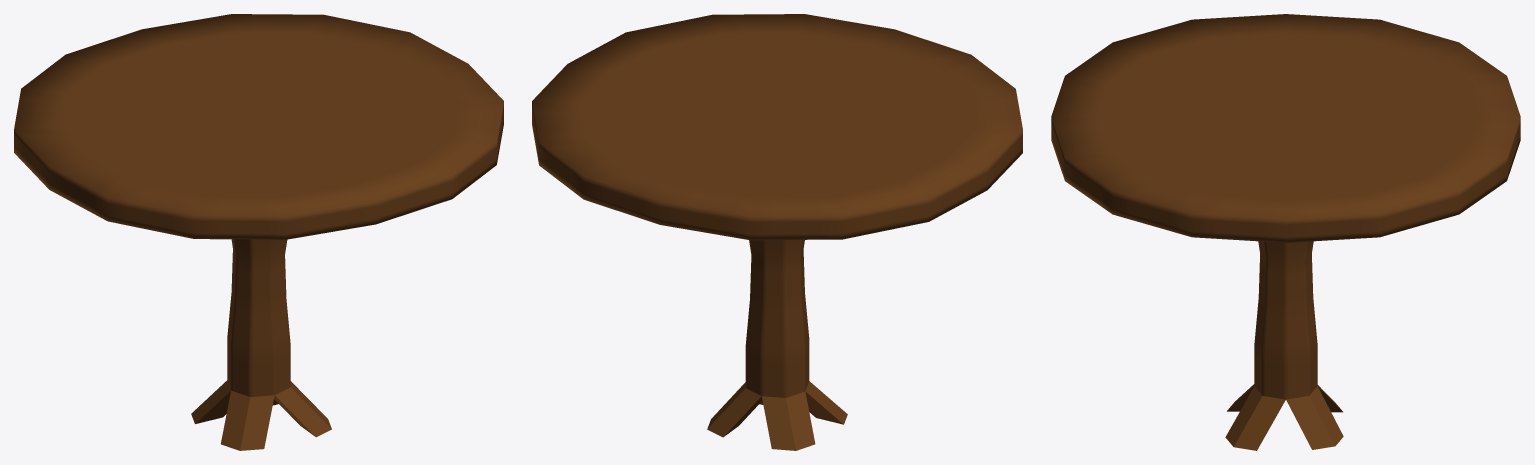
File: Table.fbx
The picture shows the model from 3 angles, left to right: view 1: azimuth 30°, elevation 25°; view 2: azimuth 150°, elevation 25°; view 3: azimuth 270°, elevation 25°; orthographic projection.
Visible parts, largest first — view 1: Table; view 2: Table; view 3: Table.
Part boxes in pixels (<box>): Table: <box>14,14,503,450</box>; Table: <box>532,14,1022,450</box>; Table: <box>1051,14,1520,450</box>.
Size of the model in its own units: 13.27 by 9.28 by 12.83.
